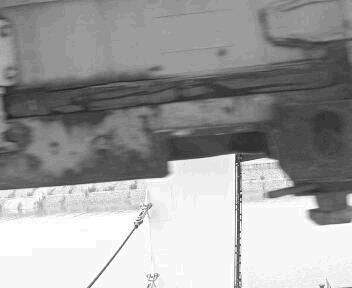twist_lock_1: (298, 181, 347, 235)
